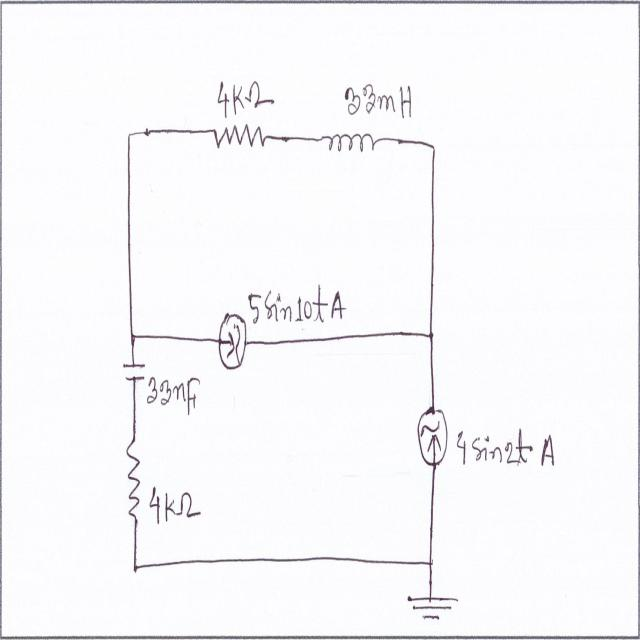capacitor: (119, 356, 150, 390)
current_source: (411, 398, 452, 476), (213, 304, 250, 382)
ground: (406, 586, 460, 626)
inductor: (322, 128, 378, 166)
resistor: (208, 116, 276, 158), (127, 426, 145, 536)
